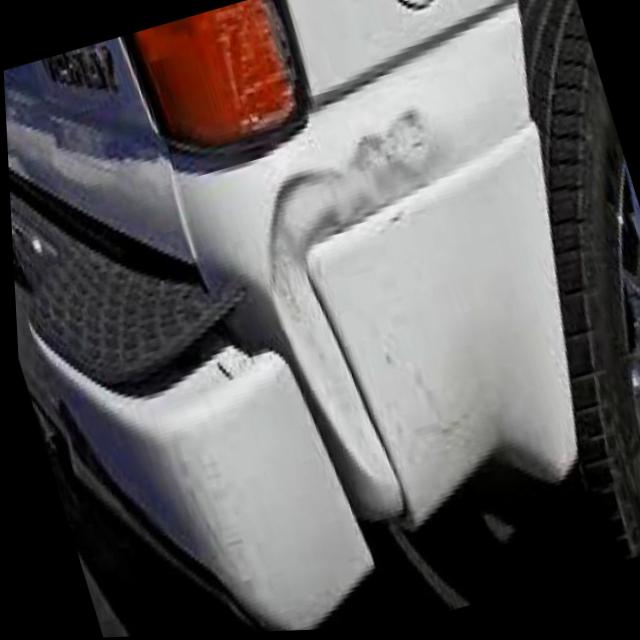Car-Damage: (223, 92, 531, 519)
